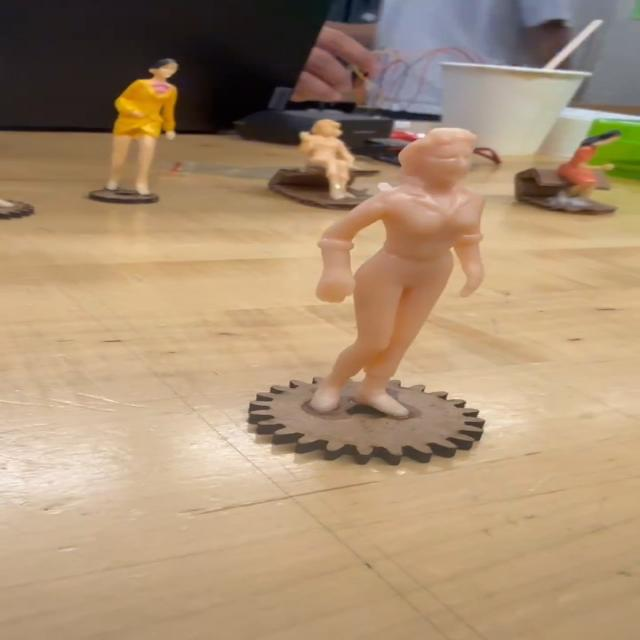Unauthorized: (286, 106, 498, 422)
